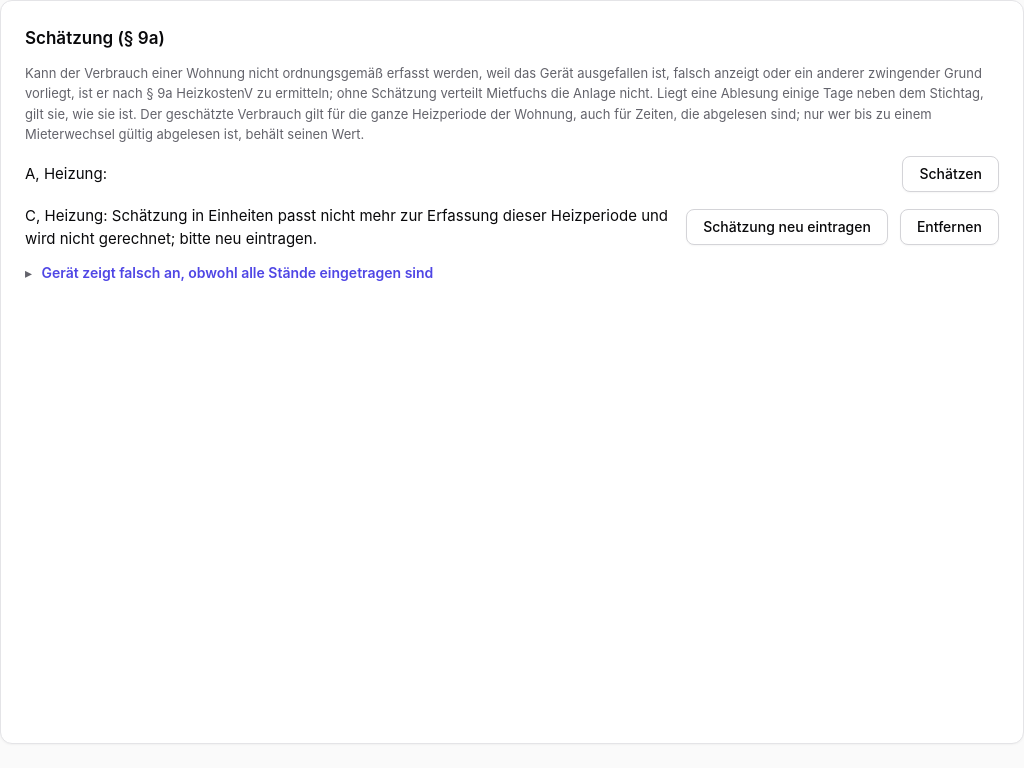
G-I1: eine Schätzung, die nicht zur Erfassung passt, steht mit „Schätzung neu eintragen“ da und wird mit dem Vorschlag neu eingetragen
Expected: the text "C, Heizung: Schätzung in Einheiten passt nicht mehr zur Erfassung" is shown, [25,204,674,250]
Click the button "Schätzung neu eintragen".
click(787, 227)  # box [686,209,888,245]
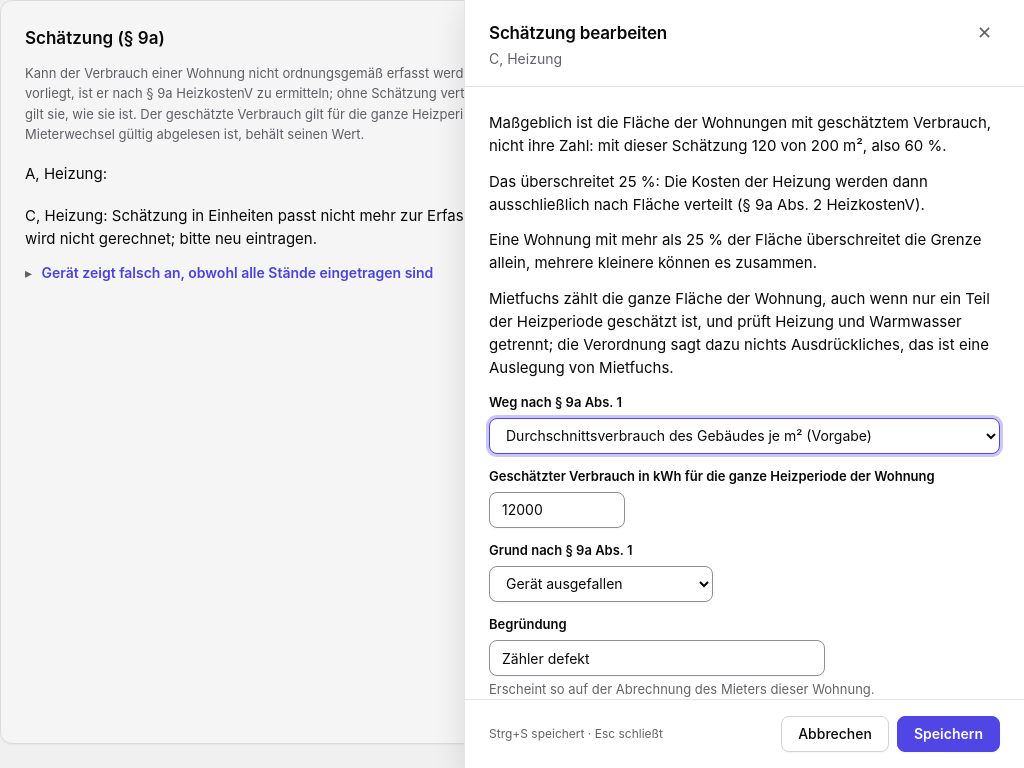
Expected: the field labelled "Geschätzter Verbrauch" holds "12000", [489,492,625,528]
Expected: the field labelled "Begründung" holds "Zähler defekt", [489,640,825,676]
